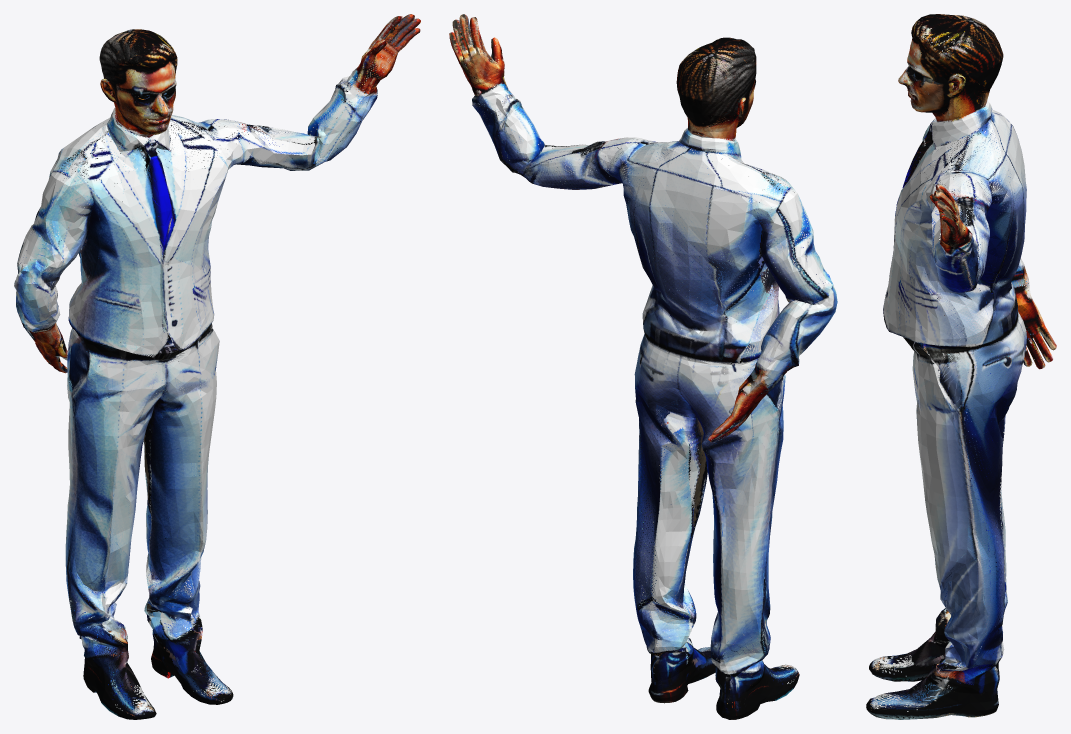
File: textured_image.glb
3 views of the same model, side by side, from view 1: azimuth 30°, elevation 25°; view 2: azimuth 150°, elevation 25°; view 3: azimuth 270°, elevation 25° (orthographic). The views are drawn at different scales.
Visible parts, largest first — view 1: Node; view 2: Node; view 3: Node.
Boxes of the visible parts, <box> form: Node: <box>14,14,420,719</box>; Node: <box>449,14,837,719</box>; Node: <box>866,14,1056,719</box>.
Size of the model in its own units: 1.27 by 2 by 0.5138.
1 material, 1 textured.
